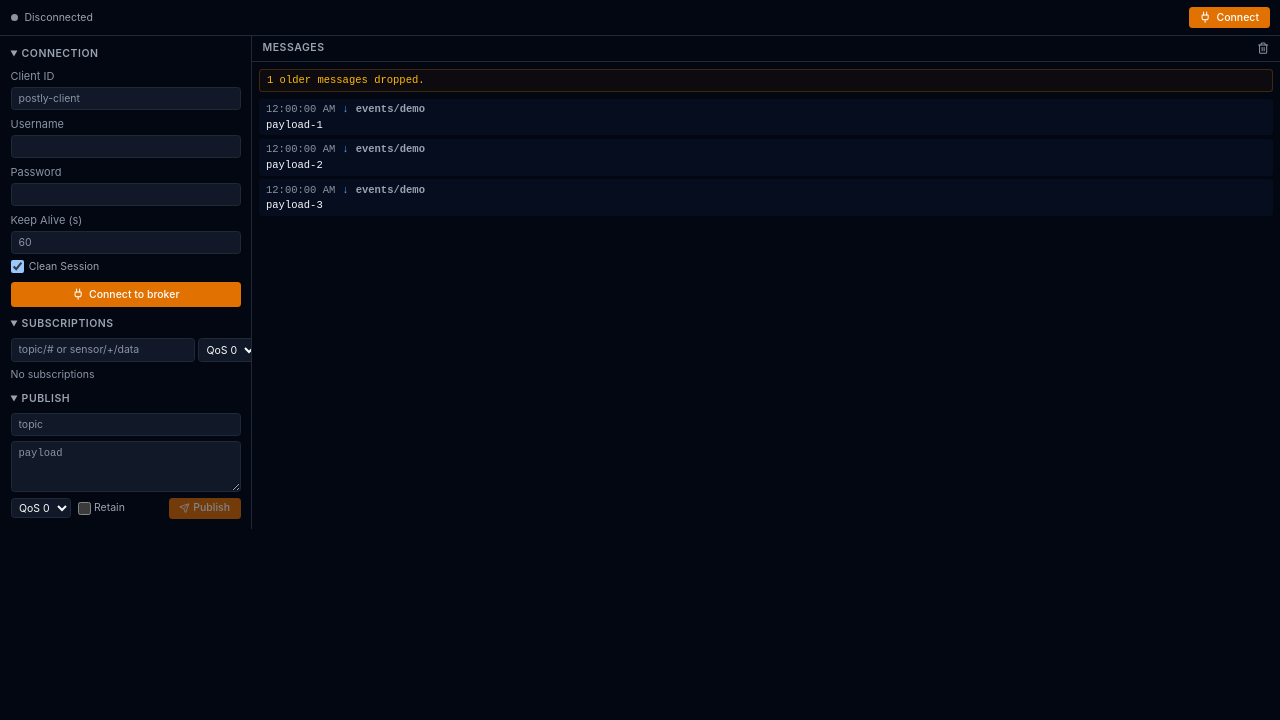
Test: message log caps › drops older MQTT messages, shows an indicator, and clears the log
Expected: the text with test id "mqtt-messages-dropped" shows "1 older messages dropped", x1=259 y1=68 x2=1273 y2=92
Expected: the text "payload-3" is shown, x1=266 y1=199 x2=323 y2=211
Click the button named "Clear messages": [1263, 48] box x1=1257 y1=42 x2=1270 y2=54
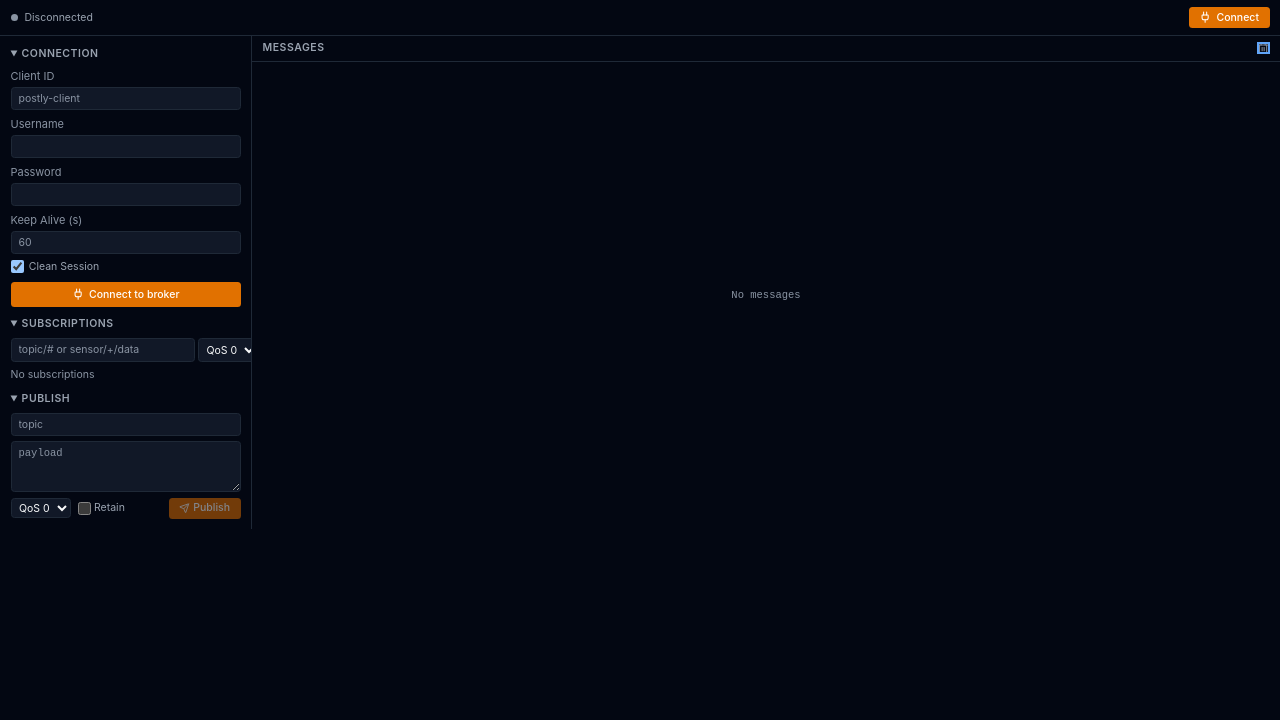
Expected: the text with test id "mqtt-messages-dropped" is gone
Expected: the text "No messages" is shown, x1=731 y1=289 x2=801 y2=301
